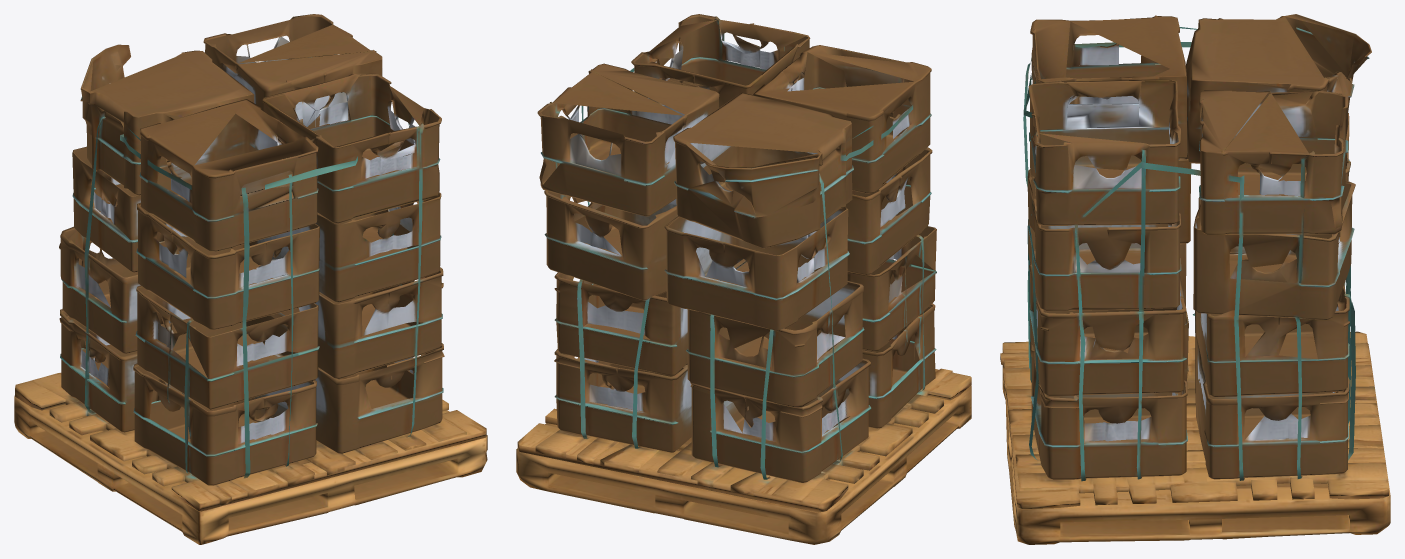
Rendered from paleta-kutije.glb.
3 views of the same model, side by side, from view 1: azimuth 30°, elevation 25°; view 2: azimuth 150°, elevation 25°; view 3: azimuth 270°, elevation 25° (orthographic). The views are drawn at different scales.
Parts seen in each view (by area): view 1: tripo_node_2bf4b21b-13a2-45b8-9a7c-6feb90a0c177; view 2: tripo_node_2bf4b21b-13a2-45b8-9a7c-6feb90a0c177; view 3: tripo_node_2bf4b21b-13a2-45b8-9a7c-6feb90a0c177.
Boxes of the visible parts, bbox=[...] form: tripo_node_2bf4b21b-13a2-45b8-9a7c-6feb90a0c177: bbox=[14, 14, 487, 544]; tripo_node_2bf4b21b-13a2-45b8-9a7c-6feb90a0c177: bbox=[516, 14, 971, 544]; tripo_node_2bf4b21b-13a2-45b8-9a7c-6feb90a0c177: bbox=[1000, 14, 1390, 544].
Bounding box in the file's own units: 0.9302 × 0.9995 × 0.9175.
1 material, 1 textured.
